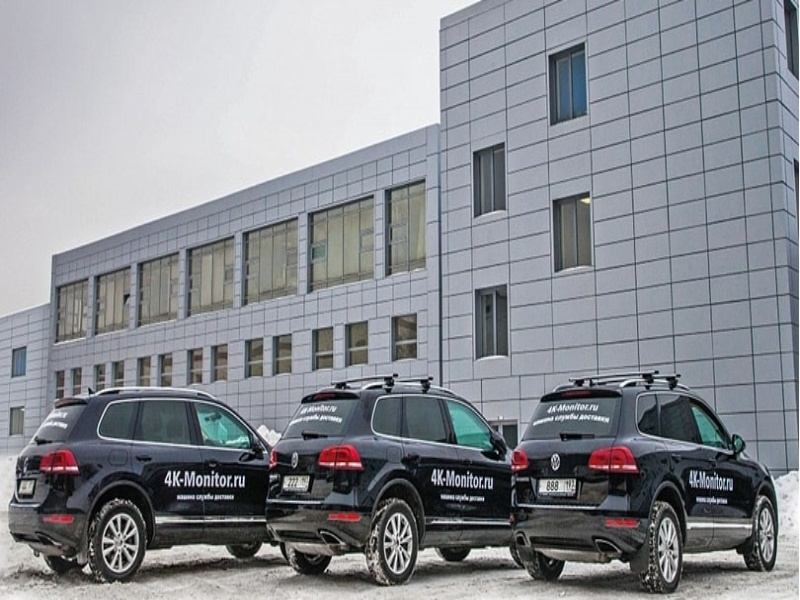car: (511, 372, 778, 592), (265, 375, 515, 585), (9, 388, 273, 582)
plate: (539, 480, 575, 493), (280, 474, 310, 489)
